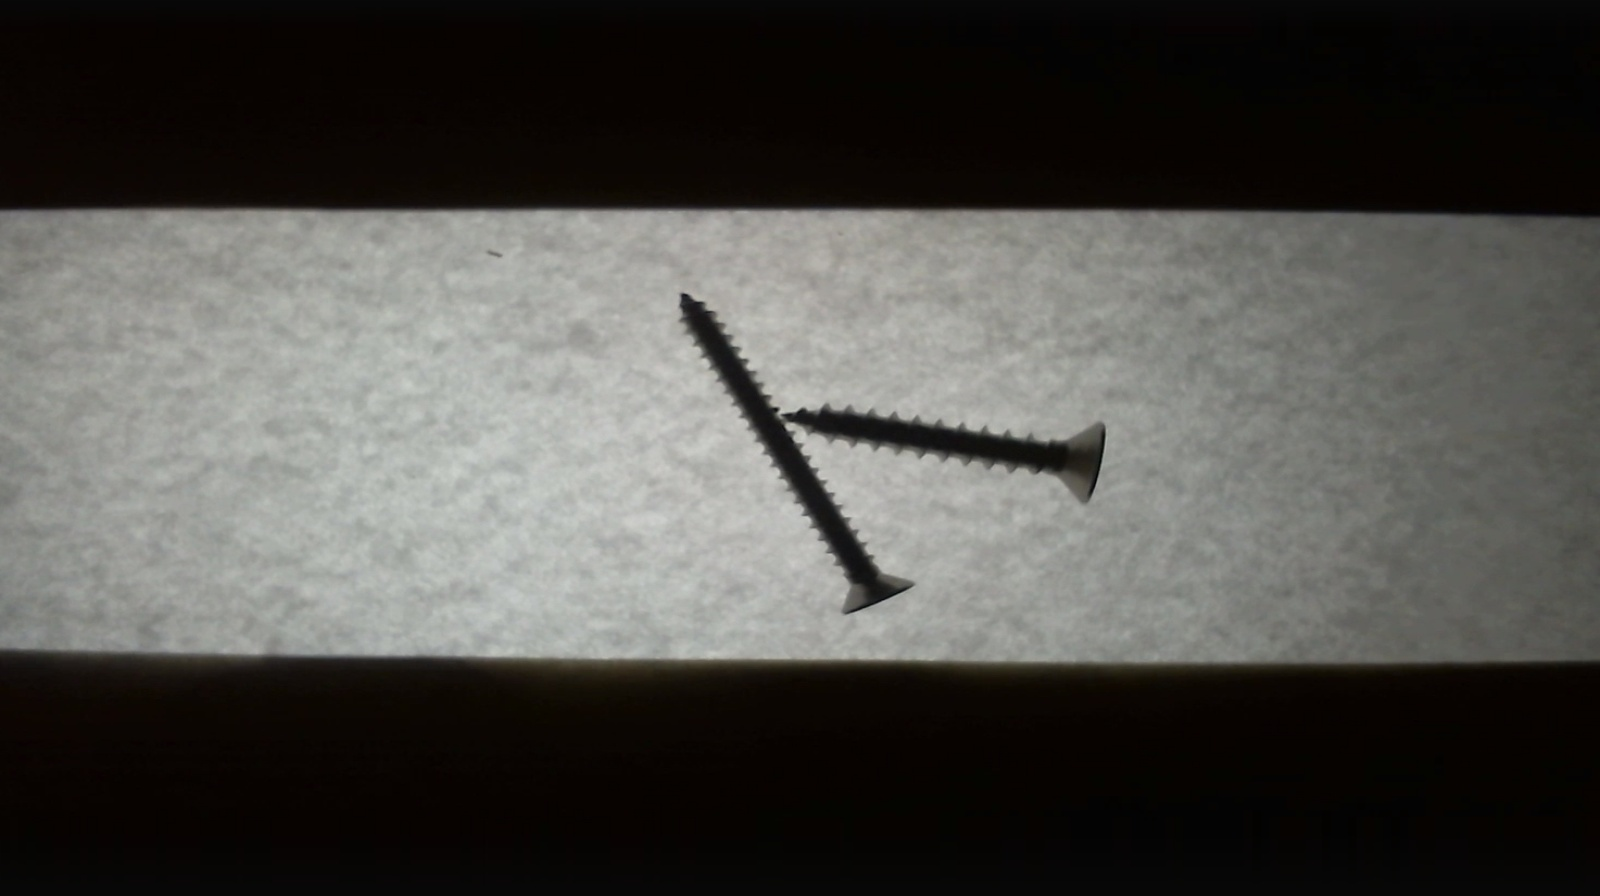S001: (766, 396, 1115, 512)
S002: (657, 274, 920, 621)
